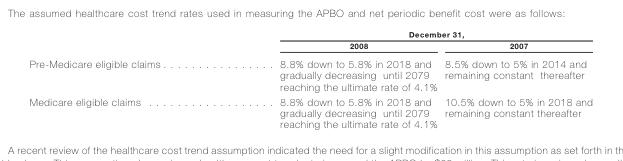table: (28, 29, 591, 129)
table column: (219, 29, 440, 129), (28, 29, 219, 129), (440, 29, 591, 129)
table column header: (28, 29, 591, 53)
table row: (28, 53, 591, 93), (28, 93, 591, 129), (28, 39, 591, 53), (28, 29, 591, 39)
table spanning cell: (219, 29, 591, 39)
